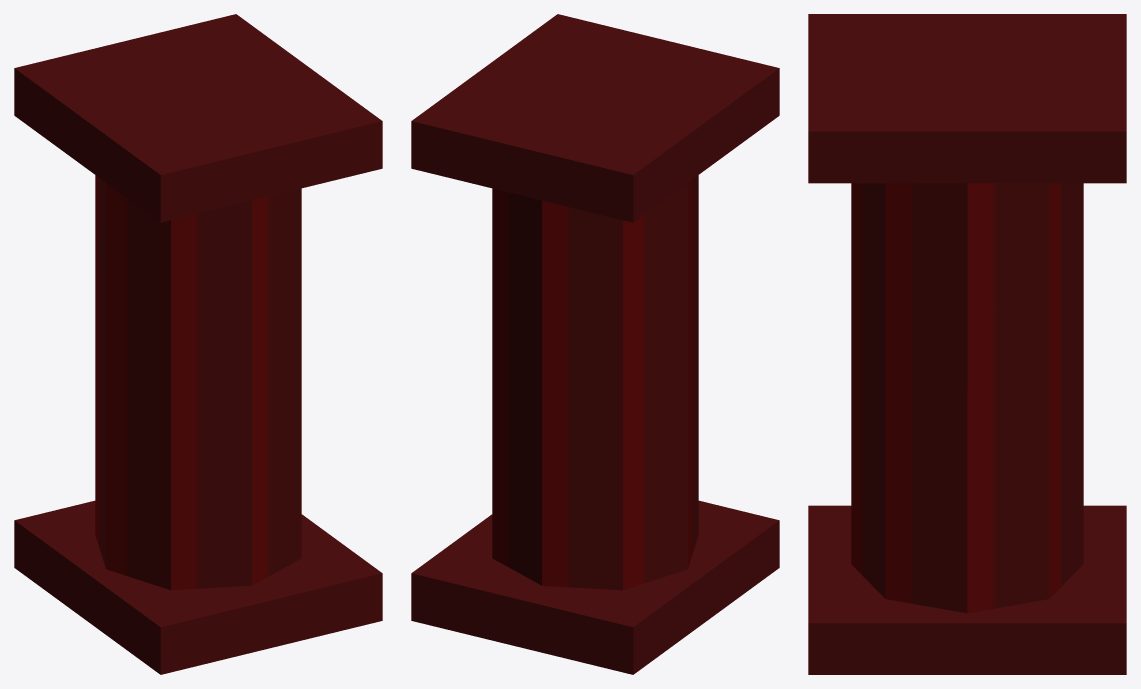
Rendered from Pilar.fbx.
3 renders of one model, left to right at view 1: azimuth 30°, elevation 25°; view 2: azimuth 150°, elevation 25°; view 3: azimuth 270°, elevation 25°, orthographic. The views are drawn at different scales.
Parts seen in each view (by area): view 1: Pilar; view 2: Pilar; view 3: Pilar.
Boxes of the visible parts, left/top/right/bottom form: Pilar: left=14, top=14, right=382, bottom=674; Pilar: left=411, top=14, right=779, bottom=674; Pilar: left=808, top=14, right=1126, bottom=674.
Size of the model in its own units: 113 by 242 by 129.
